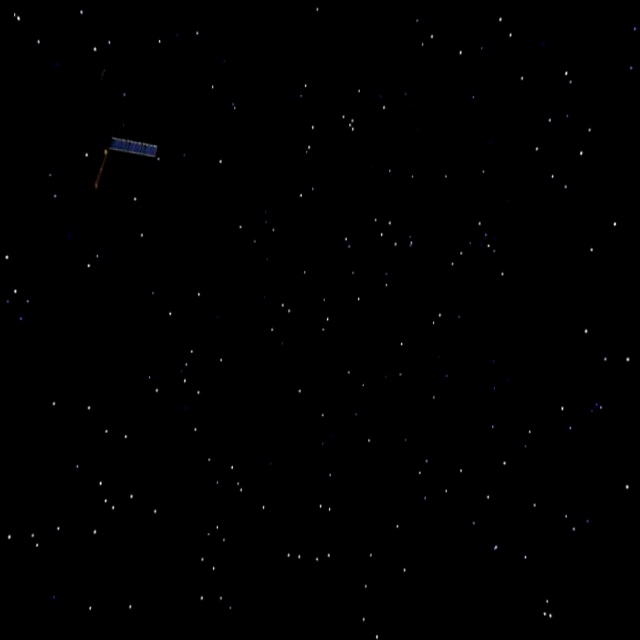satellite: (85, 26, 168, 204)
